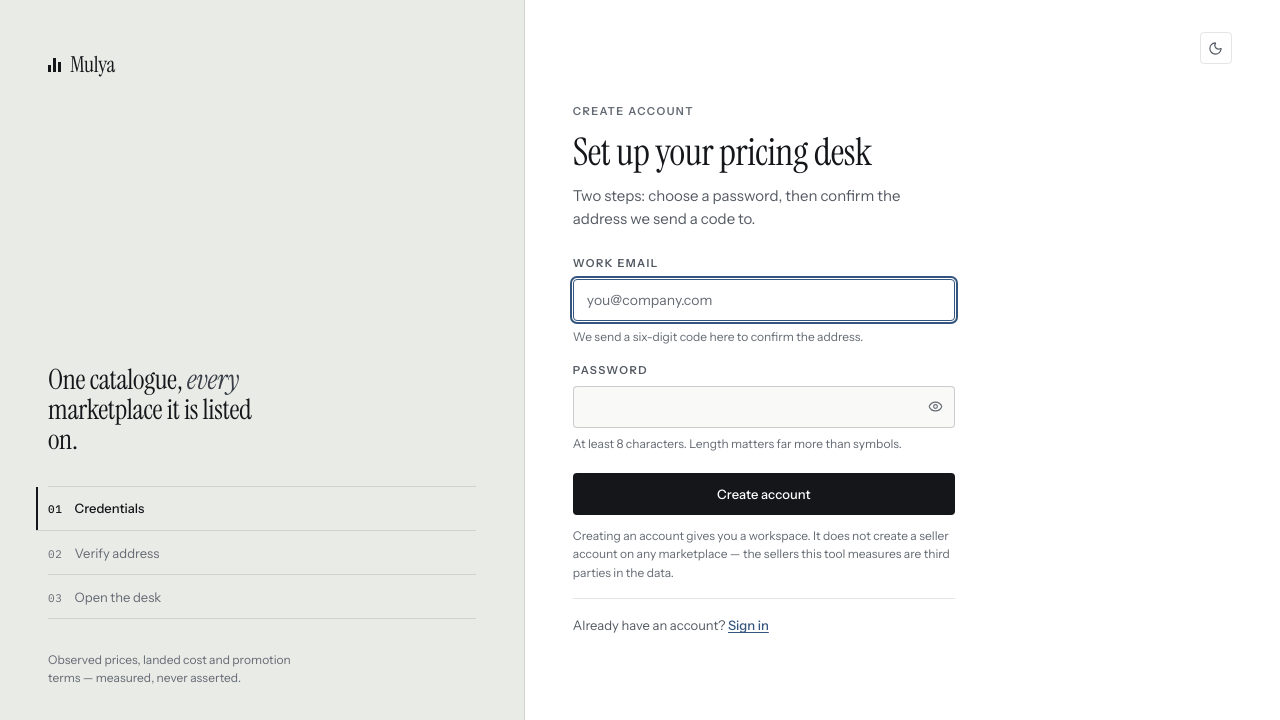
Test: UI-AUTH — creating an account › UI-AUTH-05: registering posts email and password, and does NOT sign anybody in
Type "operator@example.com" into the field labelled "Work email" at (764, 300), box [573,279,955,321]
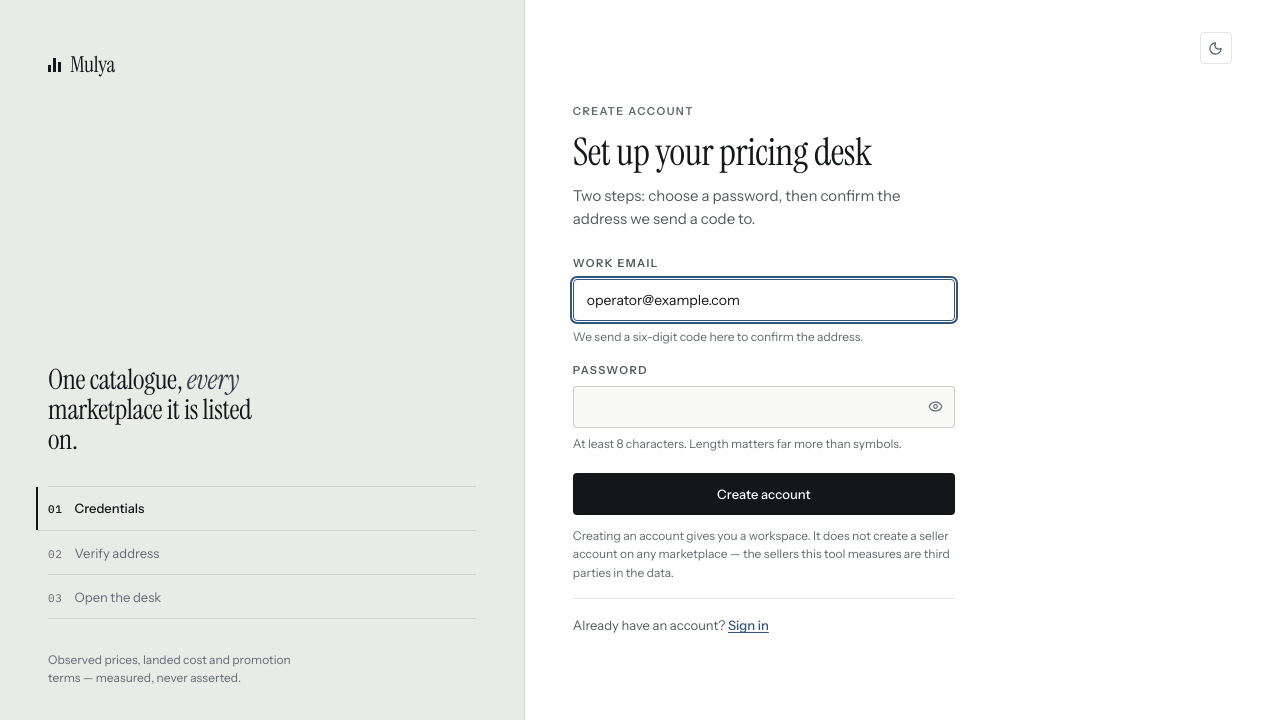
Type "correct-horse-battery" into the password field labelled "Password" at (764, 407), box [573,386,955,428]
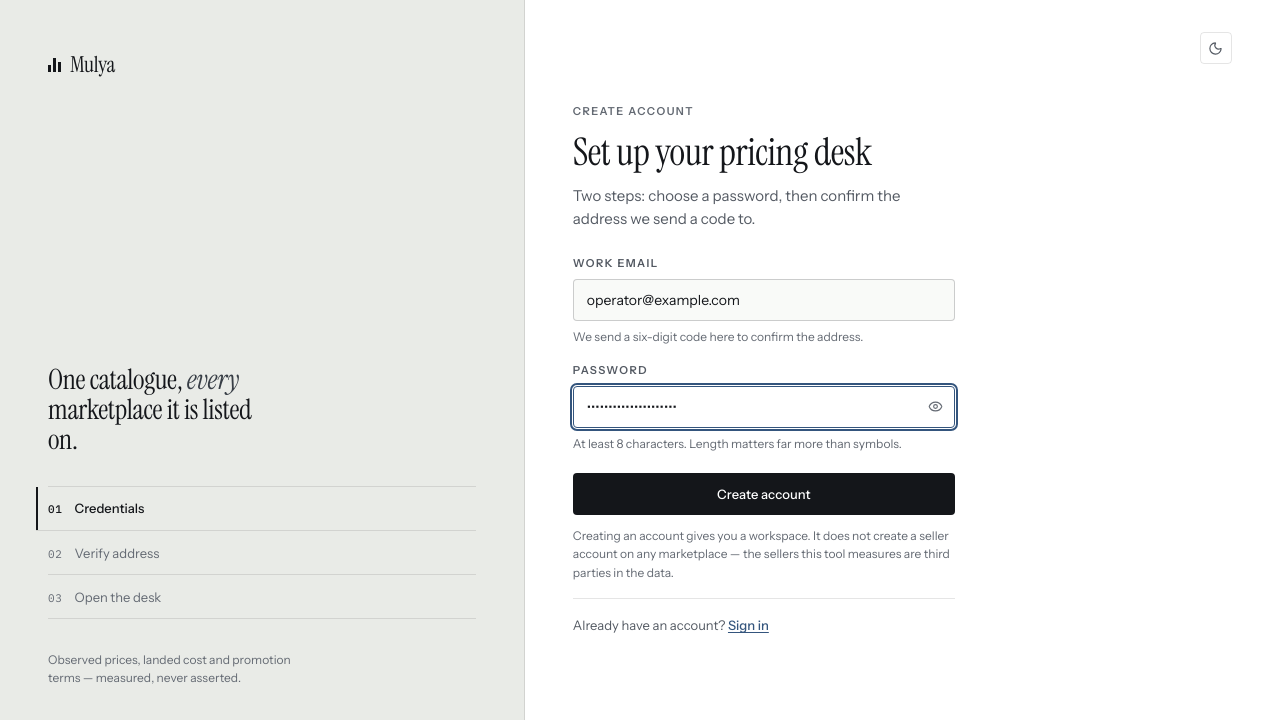
Click the button "Create account" at (764, 494), box [573,473,955,515]
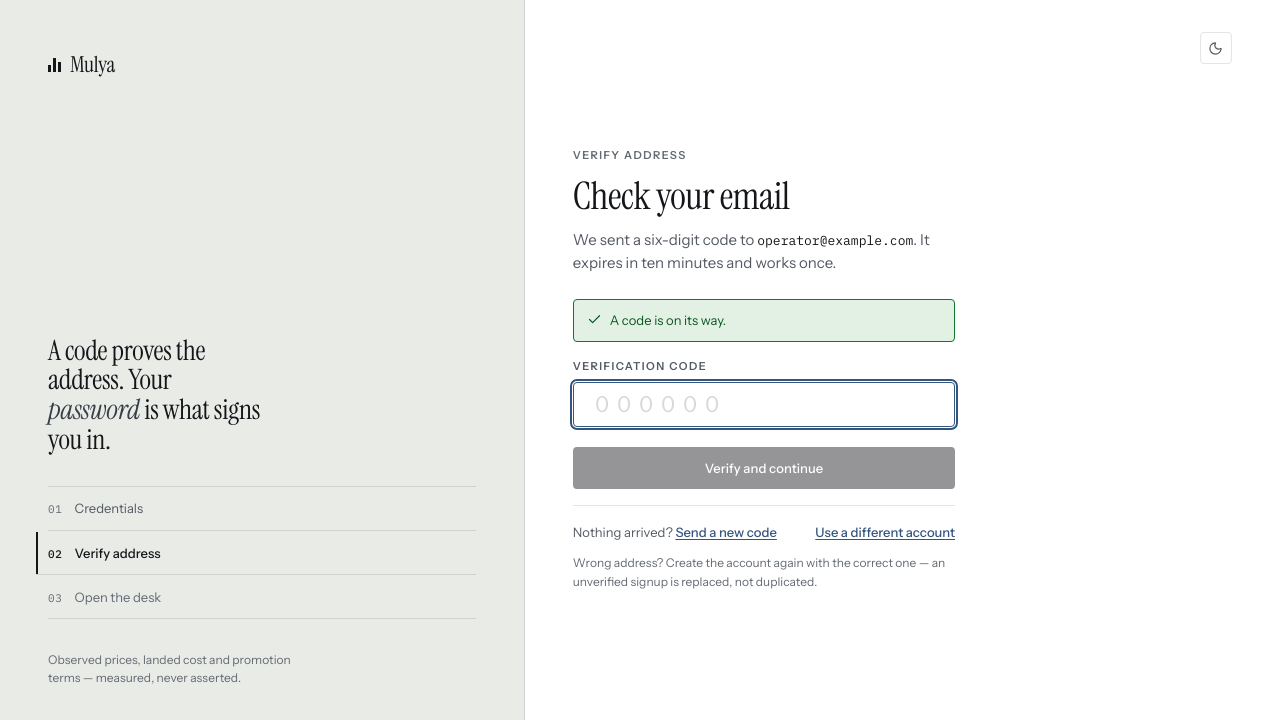
Now the heading "Check your email" is shown, box [573,171,790,221]
